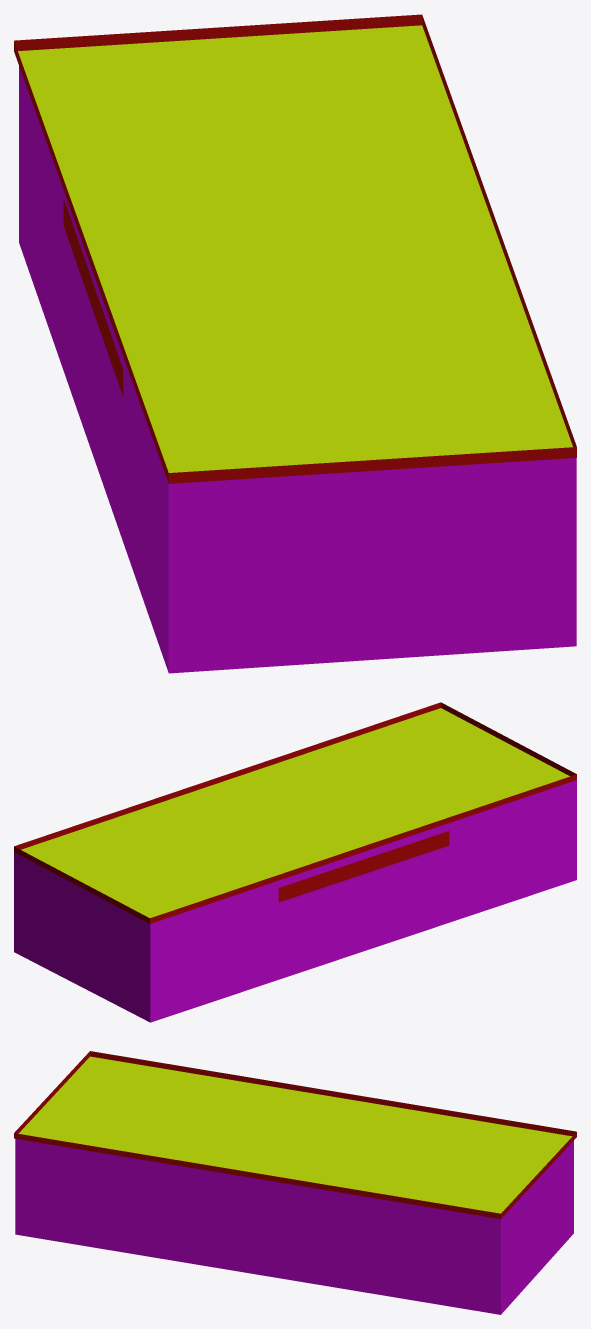
Rendered from rmc_34.glb.
3 renders of one model, top to bottom at view 1: azimuth 30°, elevation 25°; view 2: azimuth 150°, elevation 25°; view 3: azimuth 270°, elevation 25°, orthographic. The views are drawn at different scales.
Visible parts, largest first — view 1: rmc_34; view 2: rmc_34; view 3: rmc_34.
Part boxes in pixels (x1=…): rmc_34: x1=14, y1=14, x2=576, y2=673; rmc_34: x1=14, y1=702, x2=576, y2=1022; rmc_34: x1=14, y1=1051, x2=576, y2=1314.
Bounding box in the file's own units: 22.28 × 6.47 × 32.59.
